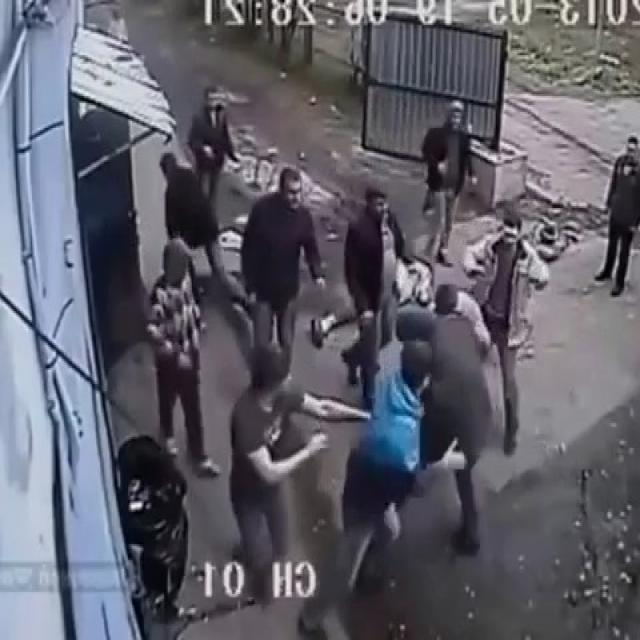fight: (221, 338, 437, 630), (361, 286, 486, 580), (427, 282, 489, 546)
